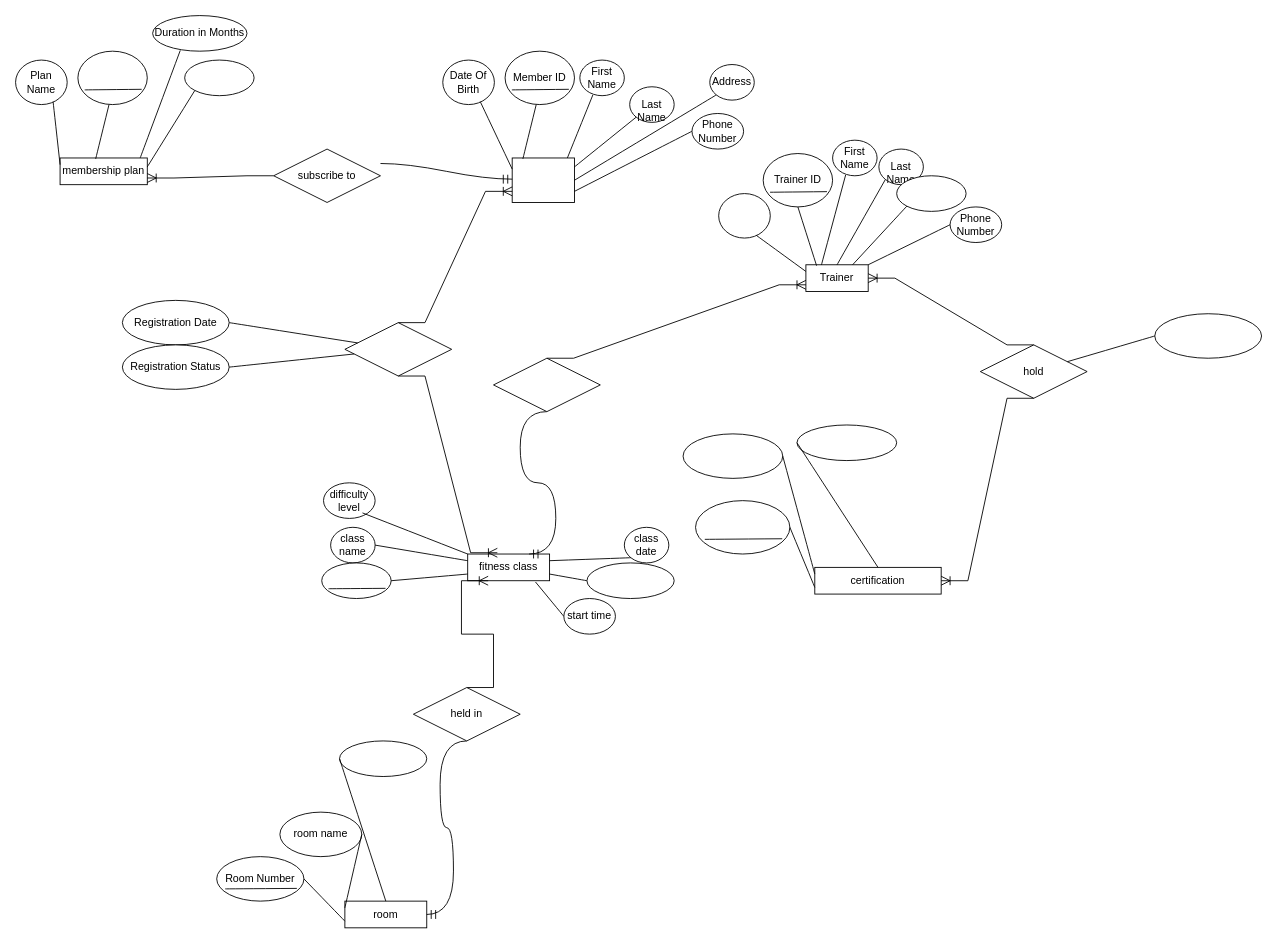
Image size: 1277x943. Some labels were removed from this diagram. Here are the shapes that lost their labels. From the top down, the centre of each, then its label:
(x=112, y=77): Plan ID
(x=219, y=77): Monthly Fee
(x=542, y=179): Member
(x=931, y=193): Speciality
(x=744, y=215): Hire Date
(x=398, y=349): registeration
(x=1208, y=335): Earned Date
(x=546, y=384): lead
(x=732, y=455): certification name
(x=846, y=442): issuing organization
(x=742, y=527): Certification Code
(x=356, y=580): Class ID
(x=630, y=580): maximum capacity
(x=383, y=758): capacity
